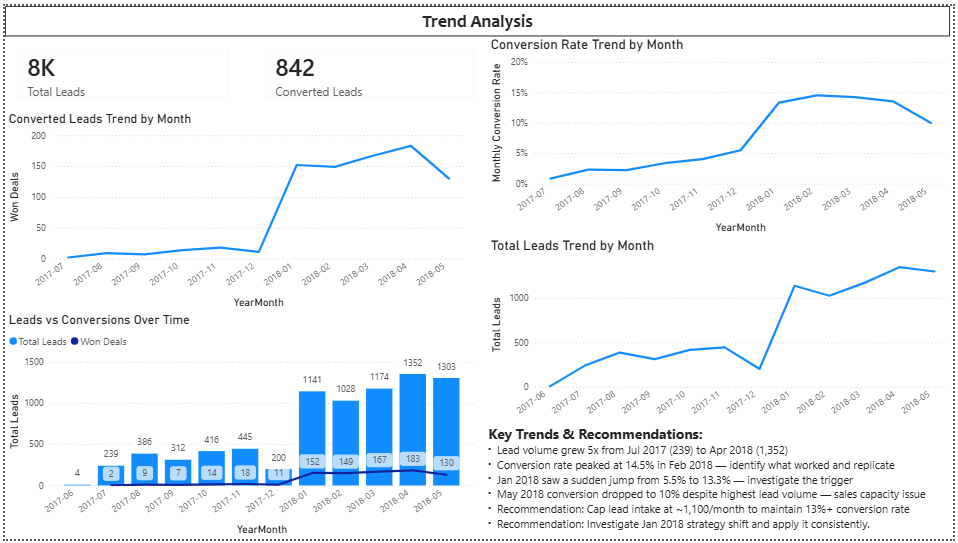

Layout of this report page (visuals, bound fields, positions):
{"tool":"powerbi","page":{"name":"Trend Analysis","canvas":[1280,720],"ordinal":3},"visuals":[{"type":"cardVisual","fields":{"Data":["olist_funnel_cleaned.Total Leads"]},"box":[0,40.5,318.9,101.4],"z":0},{"type":"cardVisual","fields":{"Data":["Table.Won Deals"]},"box":[335.1,40.5,316.2,101.4],"z":1000},{"type":"lineChart","title":"Conversion Rate Trend by Month","fields":{"Y":["Table.Monthly Conversion Rate"],"Category":["olist_funnel_cleaned.YearMonth"]},"box":[651.4,40.5,625.7,271.6],"z":2000},{"type":"lineChart","title":"Total Leads Trend by Month","fields":{"Category":["olist_funnel_cleaned.YearMonth"],"Y":["olist_funnel_cleaned.Total Leads"]},"box":[651.4,312.2,628.4,274.3],"z":3000},{"type":"lineChart","title":"Converted Leads Trend by Month","fields":{"Category":["olist_funnel_cleaned.YearMonth"],"Y":["Table.Won Deals"]},"box":[0,141.9,625.7,271.6],"z":4000},{"type":"lineClusteredColumnComboChart","title":"Leads vs Conversions Over Time","fields":{"Category":["olist_funnel_cleaned.YearMonth"],"Y":["olist_funnel_cleaned.Total Leads"],"Y2":["Table.Won Deals"]},"box":[0,413.5,637.8,306.8],"z":5000},{"type":"textbox","box":[637.8,559.5,643.2,159.5],"z":6000},{"type":"textbox","box":[0,0,1277,40.5],"z":7000}]}

Visuals, with their boxes in screenshot pixels (x1, y1, x2, y2), scaled from the page's 1280x720 canvas onto the 958x543 screenshot:
cardVisual - olist_funnel_cleaned.Total Leads: <box>0,31,239,107</box>
cardVisual - Table.Won Deals: <box>251,31,487,107</box>
"Conversion Rate Trend by Month" lineChart: <box>488,31,956,235</box>
"Total Leads Trend by Month" lineChart: <box>488,235,957,442</box>
"Converted Leads Trend by Month" lineChart: <box>0,107,468,312</box>
"Leads vs Conversions Over Time" lineClusteredColumnComboChart: <box>0,312,477,542</box>
textbox: <box>477,422,957,542</box>
textbox: <box>0,0,956,31</box>
